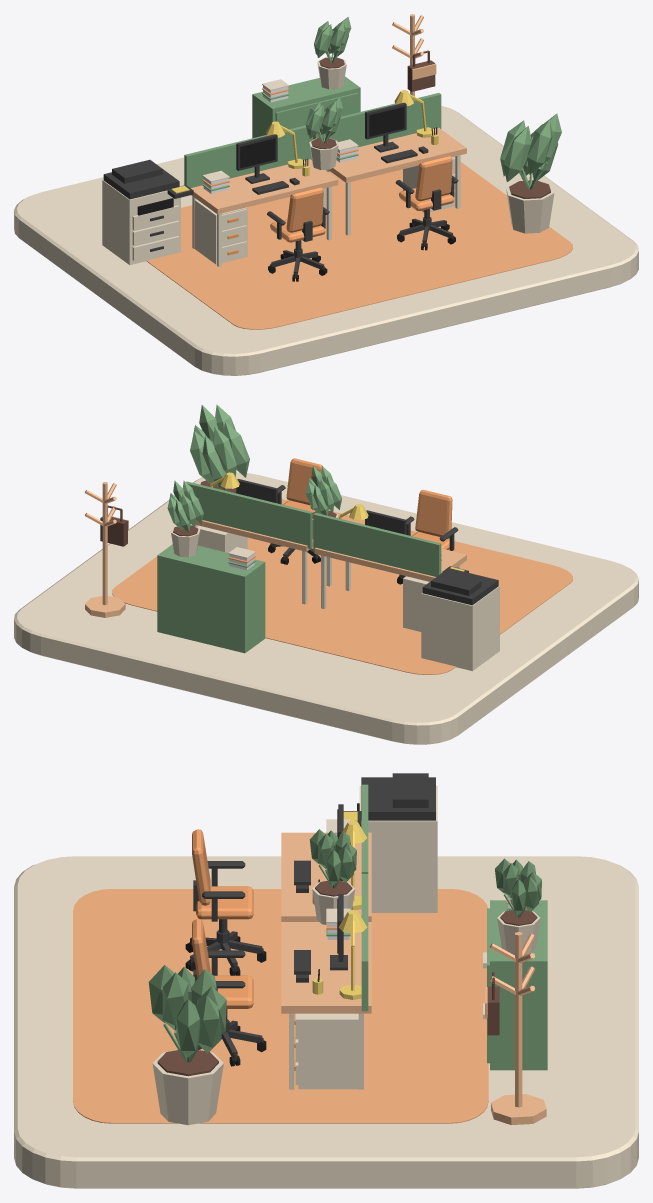
File: office.fbx
3 renders of one model, top to bottom at view 1: azimuth 30°, elevation 25°; view 2: azimuth 150°, elevation 25°; view 3: azimuth 270°, elevation 25°, orthographic. The views are drawn at different scales.
Parts seen in each view (by area): view 1: AST-001-0, AST-002-0, AST-009-0, AST-010-2, AST-004-0, AST-004-1, AST-015-0, AST-003-0, AST-003-1, AST-013-0, AST-008-0, AST-013-1 (+9 smaller); view 2: AST-001-0, AST-002-0, AST-015-0, AST-009-0, AST-013-0, AST-013-1, AST-010-2, AST-003-0, AST-010-1, AST-016-0, AST-004-0, AST-003-1 (+8 smaller); view 3: AST-001-0, AST-002-0, AST-009-0, AST-010-2, AST-004-1, AST-015-0, AST-008-1, AST-003-0, AST-016-0, AST-004-0, AST-003-1, AST-010-1 (+6 smaller).
Boxes of the visible parts, <box> form: AST-001-0: <box>14,105,638,375</box>; AST-002-0: <box>146,162,572,329</box>; AST-009-0: <box>102,159,193,264</box>; AST-010-2: <box>500,113,561,233</box>; AST-004-0: <box>191,159,338,266</box>; AST-004-1: <box>323,127,466,235</box>; AST-015-0: <box>252,76,360,171</box>; AST-003-0: <box>267,187,329,281</box>; AST-003-1: <box>395,155,458,250</box>; AST-013-0: <box>184,125,312,187</box>; AST-008-0: <box>194,199,247,264</box>; AST-013-1: <box>313,93,441,147</box>; AST-001-0: <box>14,472,638,744</box>; AST-002-0: <box>112,499,572,674</box>; AST-015-0: <box>157,544,265,653</box>; AST-009-0: <box>421,566,499,670</box>; AST-013-0: <box>313,513,441,576</box>; AST-013-1: <box>186,481,312,548</box>; AST-010-2: <box>190,404,249,493</box>; AST-003-0: <box>397,489,458,584</box>; AST-010-1: <box>167,480,203,557</box>; AST-016-0: <box>85,482,125,617</box>; AST-004-0: <box>314,547,466,608</box>; AST-003-1: <box>268,458,322,564</box>; AST-001-0: <box>14,856,638,1188</box>; AST-002-0: <box>73,889,488,1123</box>; AST-009-0: <box>343,773,437,912</box>; AST-010-2: <box>148,965,226,1125</box>; AST-004-1: <box>281,922,371,1089</box>; AST-015-0: <box>483,900,547,1070</box>; AST-008-1: <box>294,1013,358,1089</box>; AST-003-0: <box>185,829,266,975</box>; AST-016-0: <box>489,932,546,1124</box>; AST-004-0: <box>281,832,371,921</box>; AST-003-1: <box>192,918,266,1066</box>; AST-010-1: <box>495,858,541,954</box>.
Size of the model in its own units: 600 by 216 by 520.
